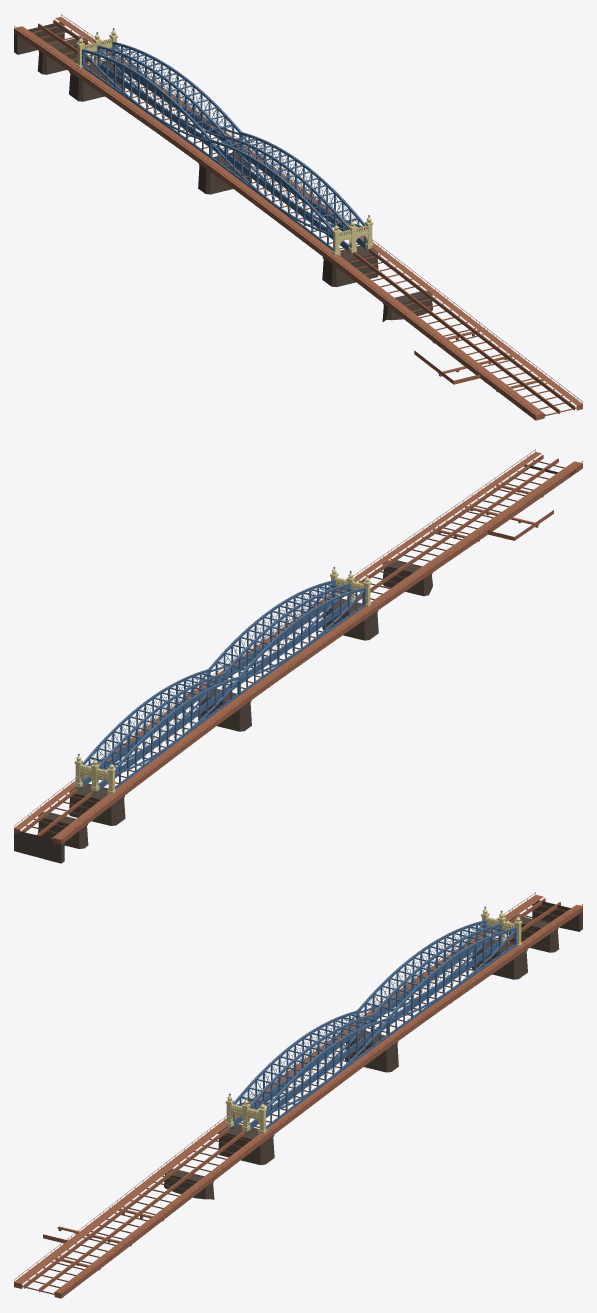
File: pit-smithfield-street-bridge.detail.glb
3 views of the same model, one above another, from view 1: azimuth 30°, elevation 25°; view 2: azimuth 150°, elevation 25°; view 3: azimuth 330°, elevation 25° (orthographic).
Parts seen in each view (by area): view 1: Smithfield Street Bridge; view 2: Smithfield Street Bridge; view 3: Smithfield Street Bridge.
Boxes of the visible parts, <box> form: Smithfield Street Bridge: <box>14,14,582,420</box>; Smithfield Street Bridge: <box>14,449,582,863</box>; Smithfield Street Bridge: <box>14,892,582,1298</box>.
Bounding box in the file's own units: 36.8 × 30.53 × 451.
